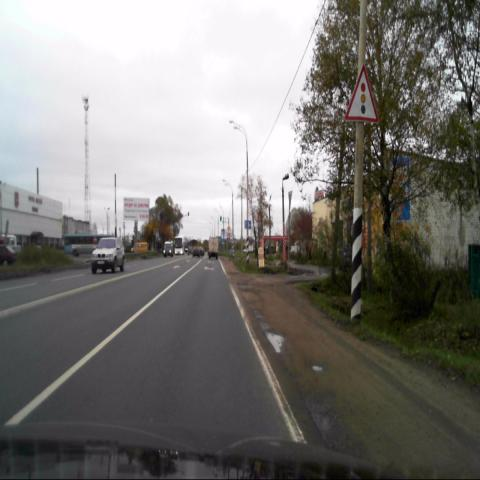1_8: (346, 64, 378, 123)
